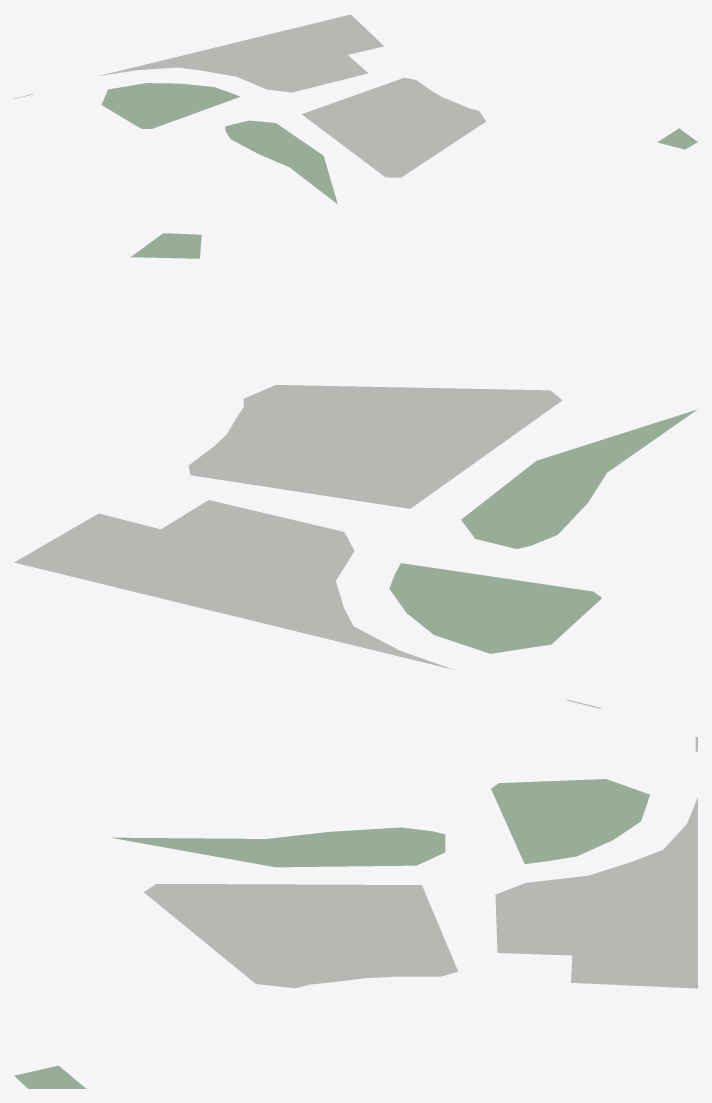
File: 127_67_mid.glb
3 renders of one model, top to bottom at view 1: azimuth 30°, elevation 25°; view 2: azimuth 150°, elevation 25°; view 3: azimuth 270°, elevation 25°, orthographic. The views are drawn at different scales.
Size of the model in its own units: 500 by 1.9 by 409.
